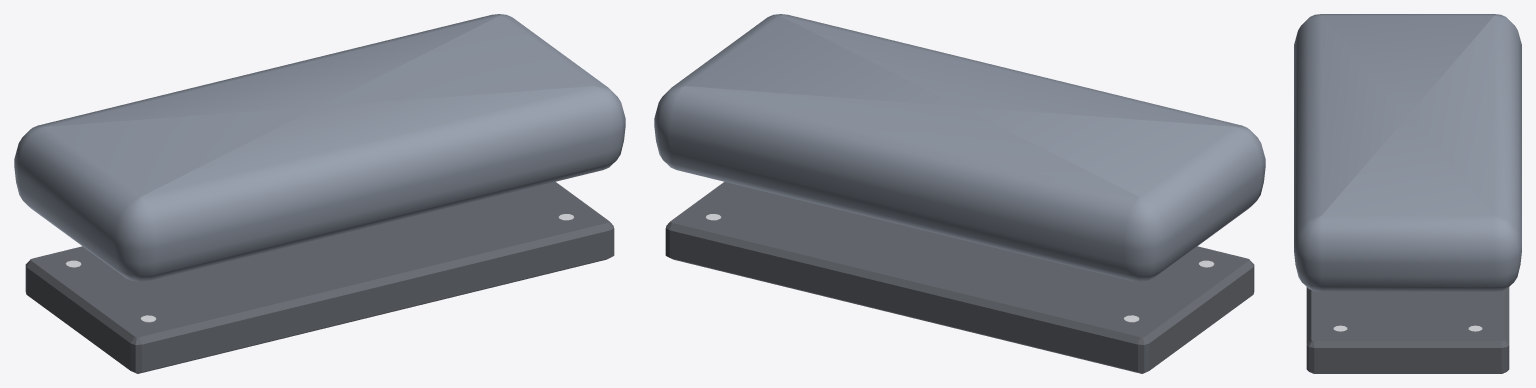
Rendered from downtown-office-interiors-soft-bench-modular-1124c9f2__16989.glb.
3 views of the same model, side by side, from view 1: azimuth 30°, elevation 25°; view 2: azimuth 150°, elevation 25°; view 3: azimuth 270°, elevation 25° (orthographic). The views are drawn at different scales.
Parts seen in each view (by area): view 1: soft-bench-modular; view 2: soft-bench-modular; view 3: soft-bench-modular.
Part boxes in pixels (<box>): soft-bench-modular: <box>14,14,625,373</box>; soft-bench-modular: <box>654,14,1265,373</box>; soft-bench-modular: <box>1294,14,1521,373</box>.
Size of the model in its own units: 1.41 by 0.456 by 0.608.
